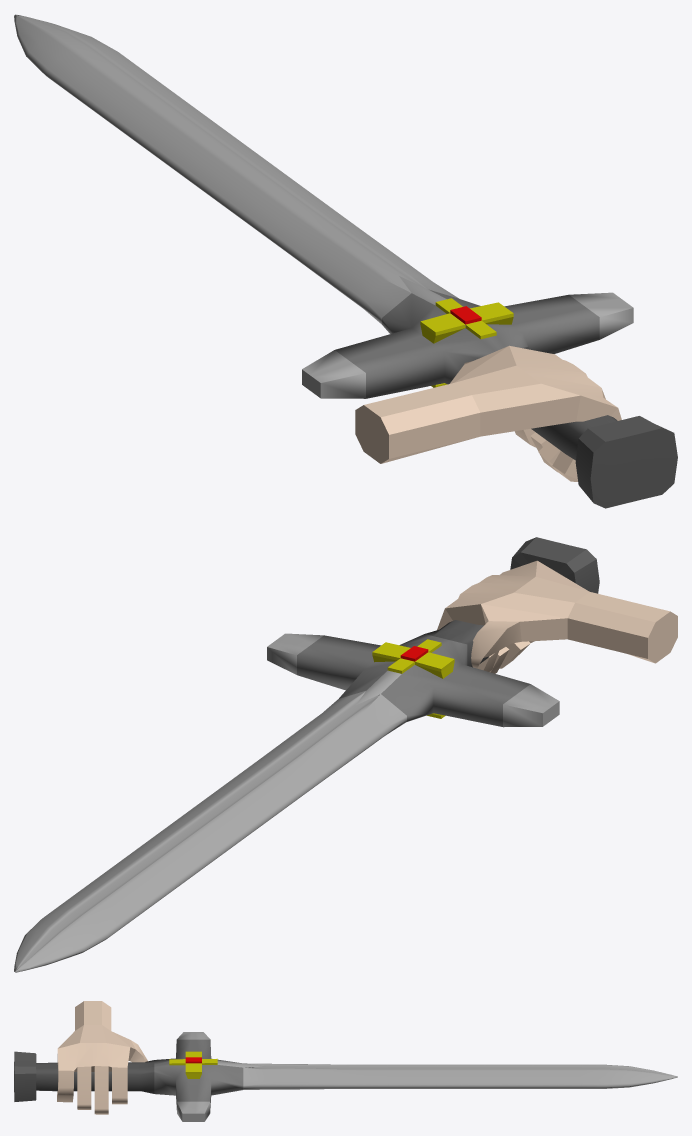
The model's file is hand_sword.fbx.
3 views of the same model, one above another, from view 1: azimuth 30°, elevation 25°; view 2: azimuth 150°, elevation 25°; view 3: azimuth 270°, elevation 25° (orthographic). The views are drawn at different scales.
Visible parts, largest first — view 1: polySurface1; view 2: polySurface1; view 3: polySurface1.
Part boxes in pixels (<box>): polySurface1: <box>14,14,677,508</box>; polySurface1: <box>14,537,677,972</box>; polySurface1: <box>14,1001,677,1121</box>.
Bounding box in the file's own units: 3.09 × 0.9567 × 9.61.
